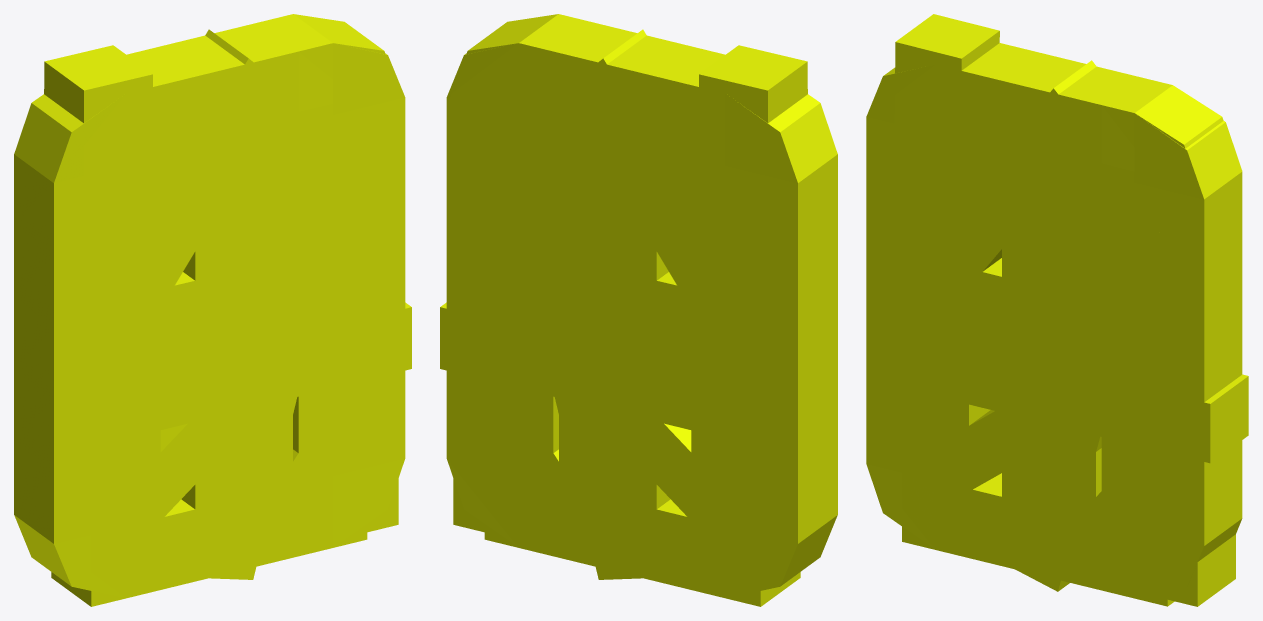
The model's file is NUM.fbx.
3 views of the same model, side by side, from view 1: azimuth 30°, elevation 25°; view 2: azimuth 150°, elevation 25°; view 3: azimuth 330°, elevation 25° (orthographic). The views are drawn at different scales.
Visible parts, largest first — view 1: Cube.005, Cube.008, Cube.002, Cube.009, Cube.001, Cube.004, Cube, Cube.003, Cube.006, Cube.007; view 2: Cube.008, Cube.001, Cube.004, Cube.009, Cube.007, Cube.002, Cube.003, Cube, Cube.006, Cube.005; view 3: Cube.005, Cube.008, Cube.001, Cube.002, Cube.004, Cube.009, Cube, Cube.003, Cube.006, Cube.007.
Boxes of the visible parts, bbox=[...] form: Cube.005: bbox=[44, 45, 389, 599]; Cube.008: bbox=[14, 14, 405, 598]; Cube.002: bbox=[110, 108, 398, 588]; Cube.009: bbox=[126, 22, 367, 547]; Cube.001: bbox=[57, 170, 401, 597]; Cube.004: bbox=[55, 29, 411, 566]; Cube: bbox=[160, 195, 263, 575]; Cube.003: bbox=[51, 14, 401, 606]; Cube.006: bbox=[91, 86, 365, 571]; Cube.007: bbox=[152, 115, 332, 579]; Cube.008: bbox=[446, 14, 837, 598]; Cube.001: bbox=[450, 115, 794, 597]; Cube.004: bbox=[440, 29, 796, 565]; Cube.009: bbox=[484, 31, 760, 556]; Cube.007: bbox=[478, 78, 761, 579]; Cube.002: bbox=[453, 75, 742, 586]; Cube.003: bbox=[450, 14, 800, 606]; Cube: bbox=[588, 137, 725, 579]; Cube.006: bbox=[553, 80, 760, 568]; Cube.005: bbox=[553, 45, 807, 606]; Cube.005: bbox=[893, 14, 1189, 567]; Cube.008: bbox=[866, 43, 1242, 598]; Cube.001: bbox=[869, 187, 1200, 598]; Cube.002: bbox=[919, 107, 1235, 606]; Cube.004: bbox=[867, 60, 1248, 570]; Cube.009: bbox=[960, 44, 1174, 606]; Cube: bbox=[969, 200, 1068, 582]; Cube.003: bbox=[902, 43, 1223, 598]; Cube.006: bbox=[902, 44, 1167, 589]; Cube.007: bbox=[961, 100, 1137, 591].
Bounding box in the file's own units: 1039 × 1472 × 202.
